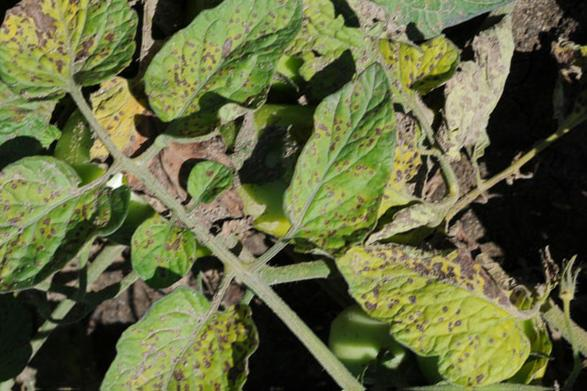Tomato Septoria leaf spot: (336, 231, 537, 391), (269, 62, 401, 261), (145, 0, 317, 137), (81, 288, 263, 391), (0, 0, 138, 127), (0, 158, 96, 301)
